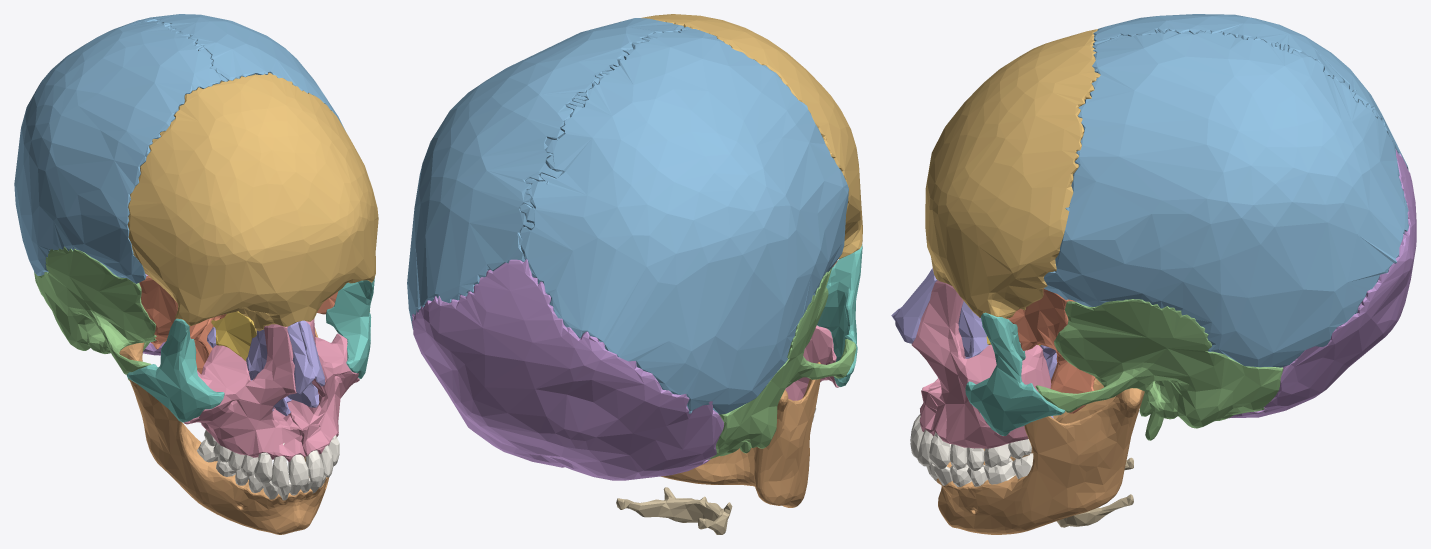
Rendered from skull.glb.
3 views of the same model, side by side, from view 1: azimuth 30°, elevation 25°; view 2: azimuth 150°, elevation 25°; view 3: azimuth 270°, elevation 25° (orthographic). The views are drawn at different scales.
Parts seen in each view (by area): view 1: frontal, parietal, maxilla, mandible, temporal, zygomatic, teeth, facial, sphenoid, ethmoid; view 2: parietal, occipital, frontal, mandible, temporal, zygomatic, hyoid, maxilla; view 3: parietal, frontal, temporal, mandible, maxilla, occipital, zygomatic, teeth, sphenoid, facial, hyoid.
Boxes of the visible parts, x1,y1,x2,y2 form: frontal: (127,72,378,331); parietal: (14,14,345,283); maxilla: (184,319,359,461); mandible: (119,327,329,534); temporal: (34,246,369,380); zygomatic: (126,277,374,422); teeth: (197,427,339,500); facial: (207,320,325,415); sphenoid: (139,276,338,373); ethmoid: (211,311,256,361); parietal: (407,18,848,414); occipital: (412,259,723,480); frontal: (641,14,862,259); mandible: (661,362,820,507); temporal: (707,267,856,459); zygomatic: (817,244,862,386); hyoid: (616,487,732,534); maxilla: (785,325,839,400); parietal: (1043,14,1408,367); frontal: (925,29,1100,318); temporal: (1035,299,1283,440); mandible: (936,378,1144,534); maxilla: (911,280,1051,448); occipital: (1227,149,1416,418); zygomatic: (965,312,1065,435); teeth: (910,409,1033,487); sphenoid: (1006,288,1095,413); facial: (891,268,1057,418); hyoid: (1056,457,1133,527).
Bounding box in the file's own units: 0.151 × 0.2147 × 0.2089.
